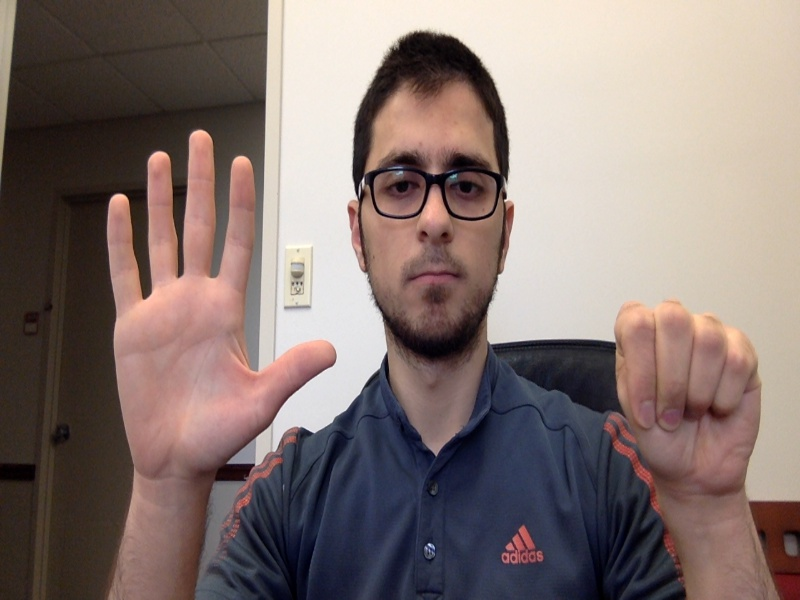0-hand: (614, 298, 762, 494)
5-hand: (108, 128, 336, 486)
